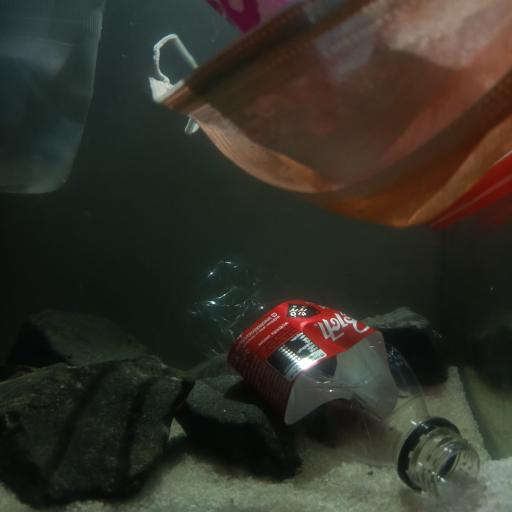mask: (149, 2, 512, 228)
plastic_bottle: (171, 256, 480, 504)
plastic_cup: (0, 0, 103, 196)
plastic_straw: (423, 153, 512, 228)
